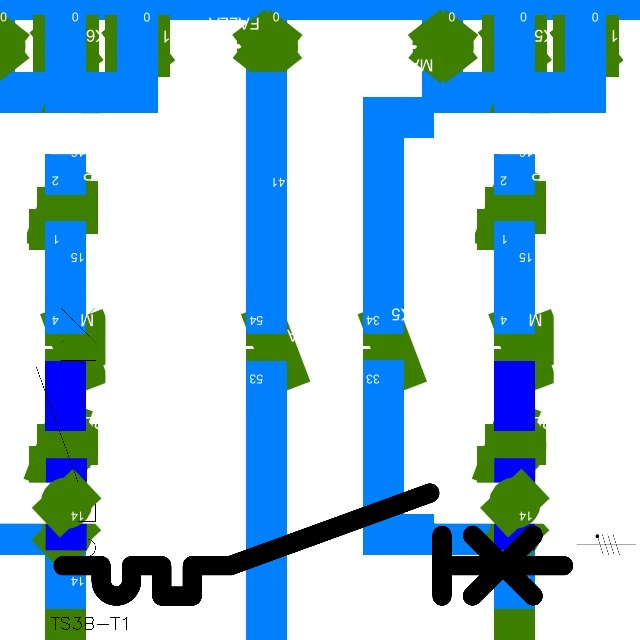interruptor_termomagnetico: (50, 480, 576, 609), (29, 283, 103, 586)
